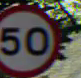Speed limit: (0, 4, 60, 77)
